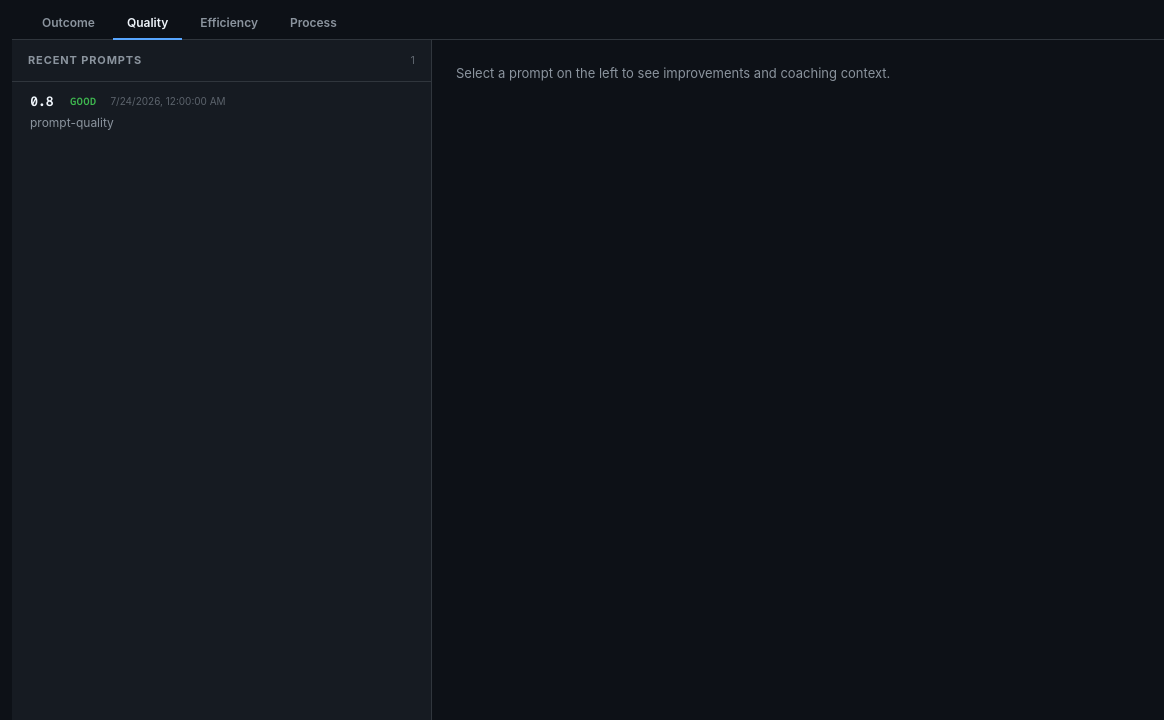
Test case: TicketDetailTabs mounts each joined panel from its sub-tab
Check: the text "prompt-quality" is shown, box [30, 115, 114, 132]
Click the tab "Efficiency" at [229, 24], box [186, 8, 272, 40]
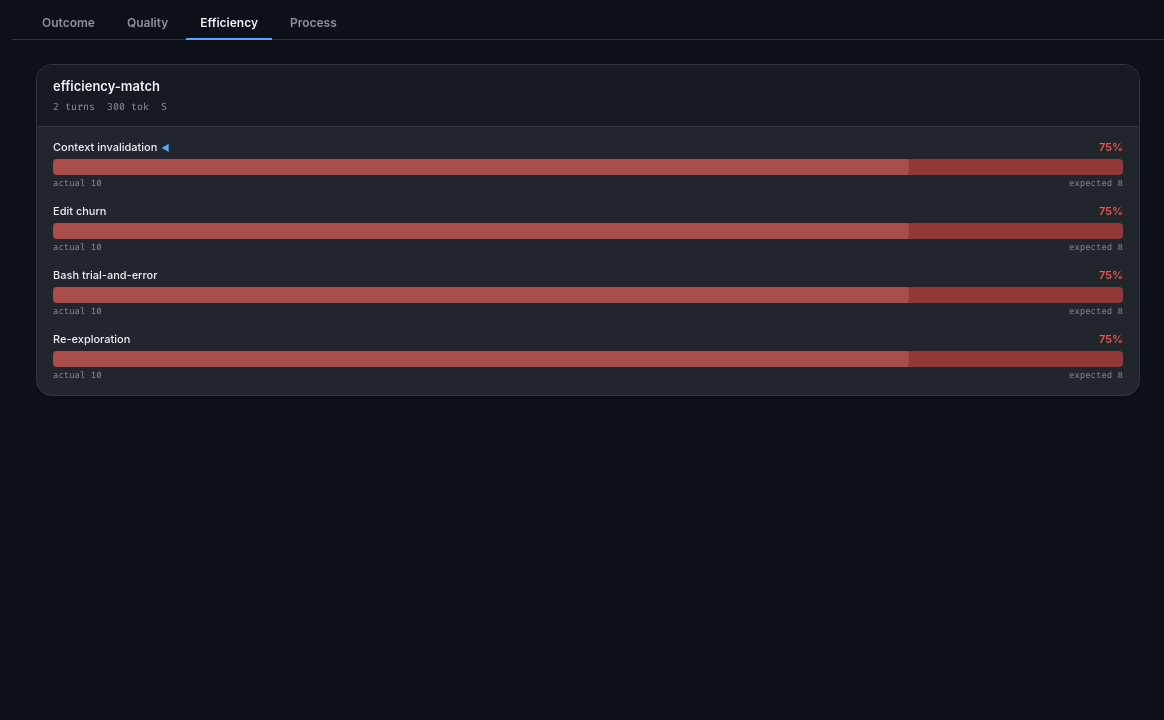
Check: the text "efficiency-match" is shown, box [53, 78, 160, 94]
Click the tab "Process" at [313, 24], box [276, 8, 351, 40]
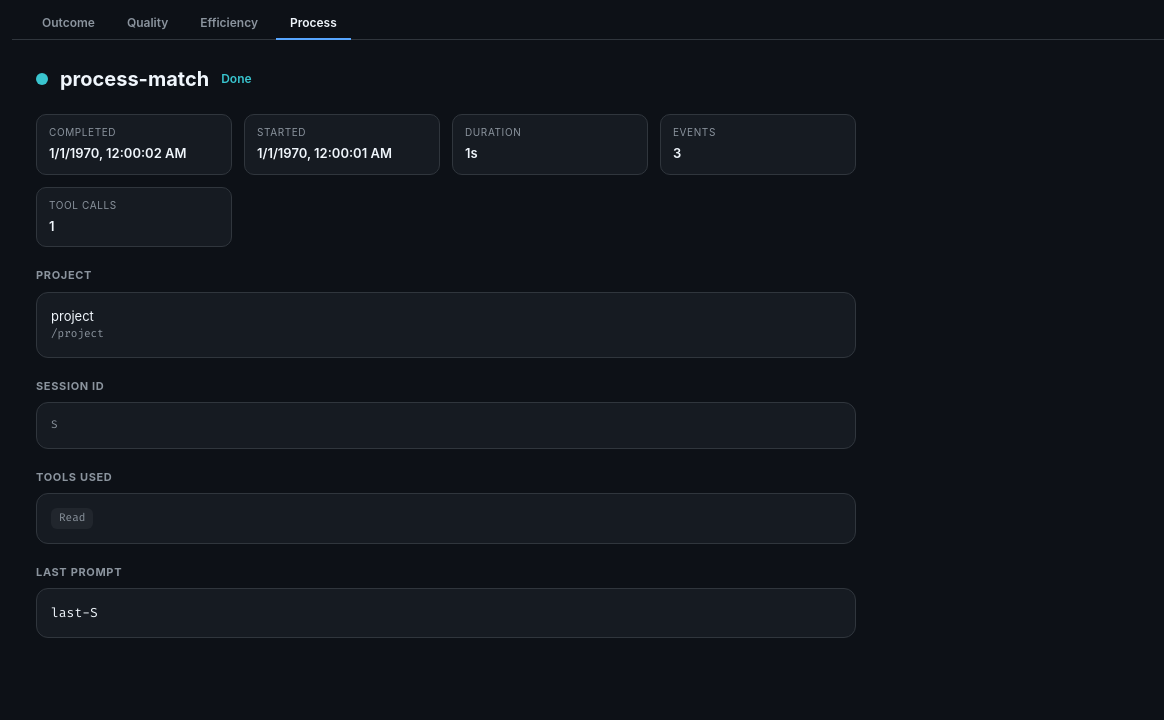
Check: the text "process-match" is shown, box [60, 64, 209, 94]
